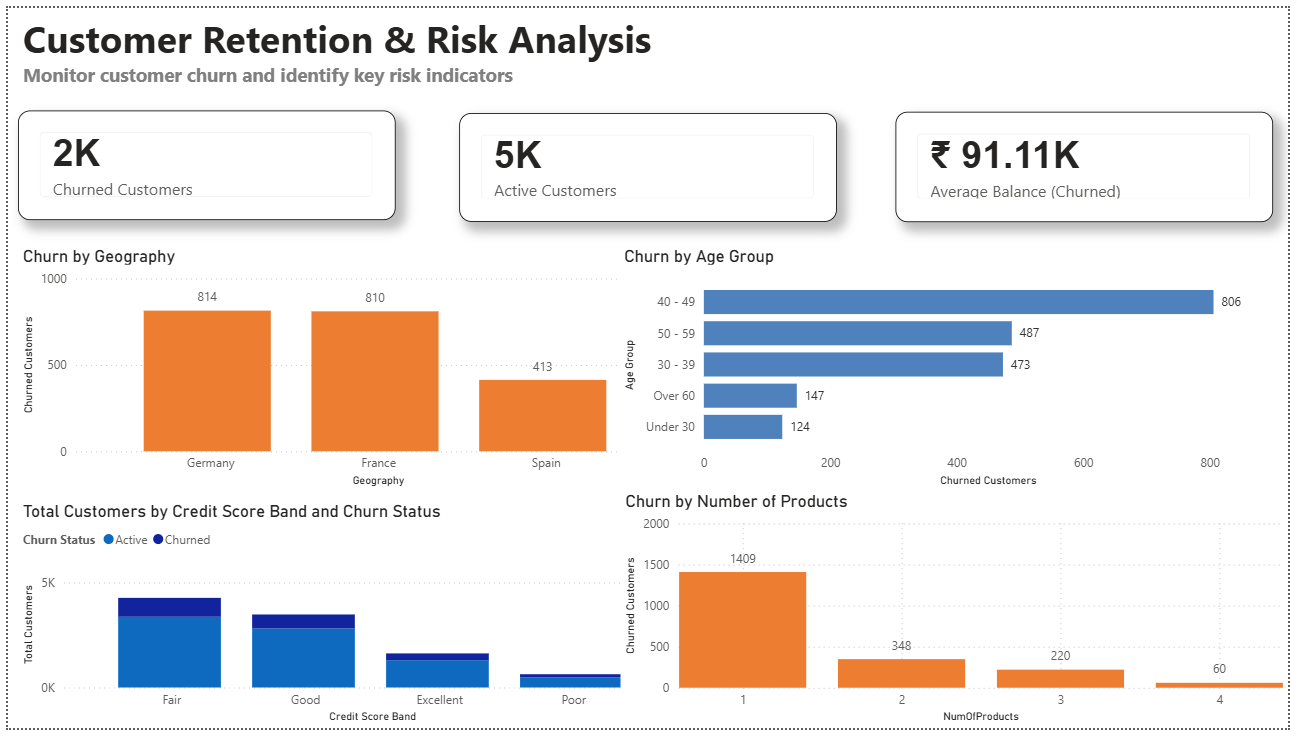

The dashboard page shown, as its layout file describes it:
{"tool":"powerbi","page":{"name":"Customer Retention & Risk Analysis","canvas":[1280,720],"ordinal":2},"visuals":[{"type":"textbox","box":[9.5,0,1270.5,102.7],"z":0},{"type":"cardVisual","fields":{"Data":["Measures (2).Churned Customers"]},"box":[9.6,102.9,377.4,109.8],"z":1},{"type":"cardVisual","fields":{"Data":["Measures (2).Average Balance (Churned)"]},"box":[887.8,103.9,377.9,110.1],"z":2},{"type":"cardVisual","fields":{"Data":["Measures (2).Active Customers"]},"box":[451.2,105.2,377.9,108.8],"z":3},{"type":"clusteredColumnChart","title":"Churn by Geography","fields":{"Category":["Churn_Modelling.Geography"],"Y":["Measures (2).Churned Customers"]},"box":[9.8,237.2,667.7,245.8],"z":4},{"type":"clusteredBarChart","title":"Churn by Age Group","fields":{"Category":["Churn_Modelling.Age Group"],"Y":["Measures (2).Churned Customers"]},"box":[611.4,237.2,668.9,245.8],"z":5},{"type":"columnChart","fields":{"Category":["Churn_Modelling.Credit Score Band"],"Series":["Churn_Modelling.Churn Status"],"Y":["Measures (2).Total Customers"]},"box":[10,493,668,227],"z":6},{"type":"clusteredColumnChart","title":"Churn by Number of Products","fields":{"Category":["Churn_Modelling.NumOfProducts"],"Y":["Measures (2).Churned Customers"]},"box":[612.6,483,667.7,237.2],"z":7}]}

Visuals, with their boxes in screenshot pixels (x1, y1, x2, y2), scaled from the page's 1280x720 canvas onto the 1297x736 screenshot:
textbox: Rect(10, 0, 1296, 105)
cardVisual - Measures (2).Churned Customers: Rect(10, 105, 392, 217)
cardVisual - Measures (2).Average Balance (Churned): Rect(900, 106, 1283, 219)
cardVisual - Measures (2).Active Customers: Rect(457, 108, 840, 219)
"Churn by Geography" clusteredColumnChart: Rect(10, 242, 686, 494)
"Churn by Age Group" clusteredBarChart: Rect(620, 242, 1296, 494)
columnChart - Churn_Modelling.Credit Score Band x Churn_Modelling.Churn Status: Rect(10, 504, 687, 735)
"Churn by Number of Products" clusteredColumnChart: Rect(621, 494, 1296, 735)
